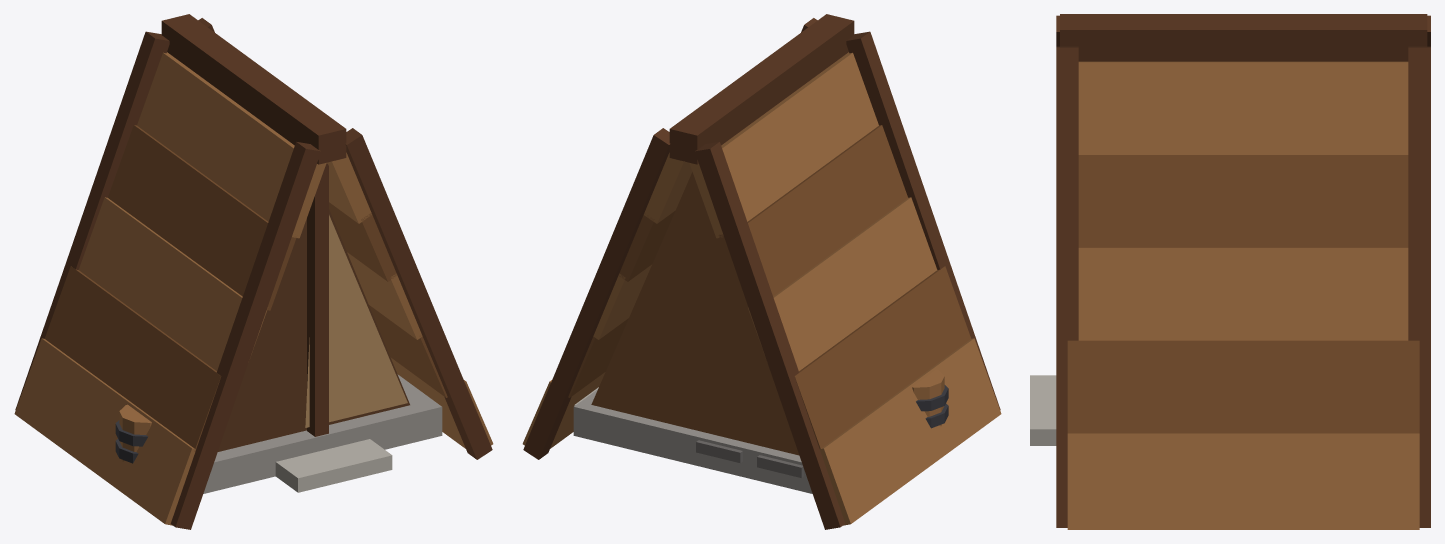
The model's file is shelter_2.glb.
3 renders of one model, left to right at view 1: azimuth 30°, elevation 25°; view 2: azimuth 150°, elevation 25°; view 3: azimuth 270°, elevation 25°, orthographic. The views are drawn at different scales.
Visible parts, largest first — view 1: roof_plank, roof_plank_mid, timber, opening, ridge, hide, footing, stone_light, barrel, iron; view 2: roof_plank, roof_plank_mid, gable, timber, ridge, footing, stone_dark, barrel, iron; view 3: roof_plank, roof_plank_mid, timber, ridge, stone_light.
Part boxes in pixels (x1,y1,x2,y2): roof_plank: [14, 52, 493, 525]; roof_plank_mid: [44, 125, 447, 451]; timber: [15, 18, 492, 529]; opening: [218, 209, 409, 451]; ridge: [161, 14, 346, 164]; hide: [305, 215, 407, 427]; footing: [203, 374, 442, 493]; stone_light: [275, 439, 392, 492]; barrel: [119, 404, 151, 461]; iron: [115, 420, 147, 463]; roof_plank: [522, 52, 1001, 525]; roof_plank_mid: [568, 125, 971, 448]; gable: [591, 172, 799, 455]; timber: [523, 18, 1000, 529]; ridge: [669, 14, 854, 164]; footing: [573, 389, 812, 493]; stone_dark: [696, 440, 803, 477]; barrel: [912, 369, 944, 426]; iron: [916, 385, 948, 428]; roof_plank: [1067, 61, 1419, 529]; roof_plank_mid: [1067, 155, 1419, 433]; timber: [1056, 15, 1430, 527]; ridge: [1060, 14, 1427, 61]; stone_light: [1030, 375, 1056, 445].
Size of the model in its own units: 1.18 by 1.25 by 1.07.
